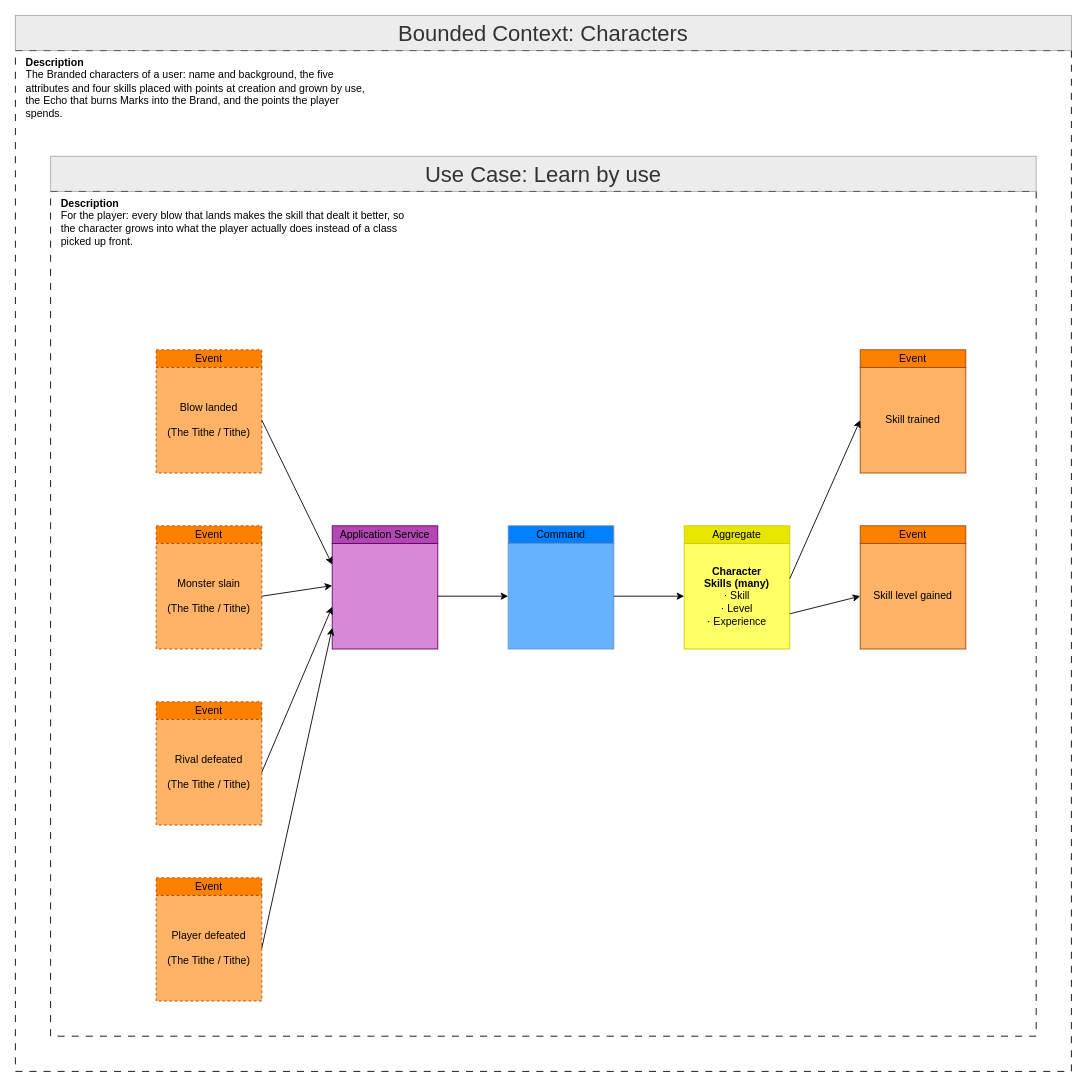
Some shapes in this 1087 by 1087 pixel diagram are drawn without their labels. Here are the shapes that lost their labels. From the top down, the box of each, then its label:
(331, 543, 438, 649): Skill trainer
(507, 543, 614, 649): Train skill Skill Experience
